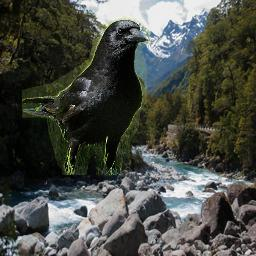Crow: (22, 18, 151, 175)
